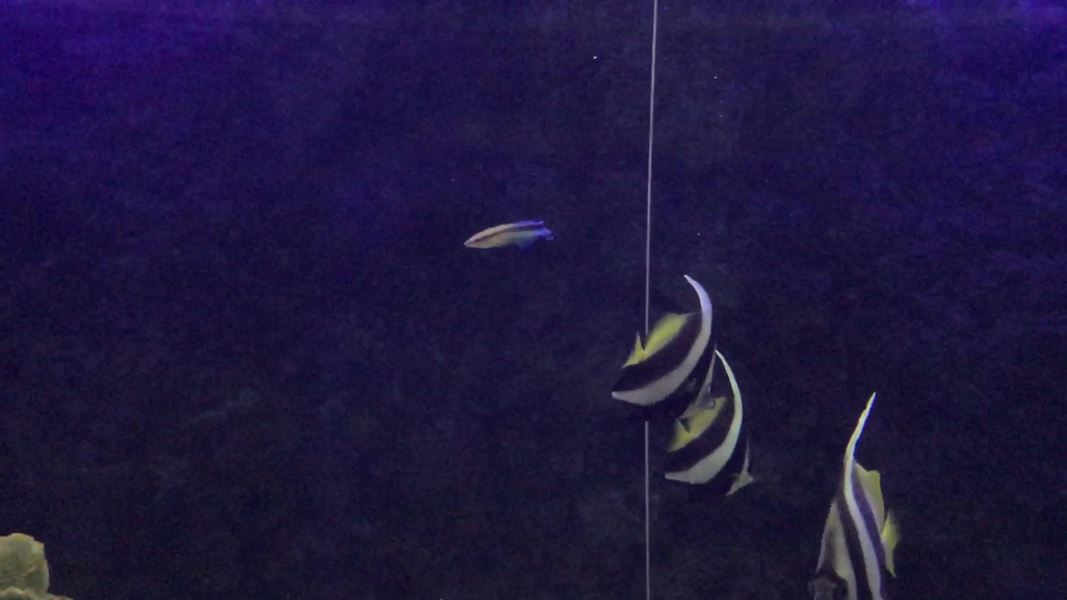Bluesteak cleaner wrasse: (456, 209, 558, 268)
